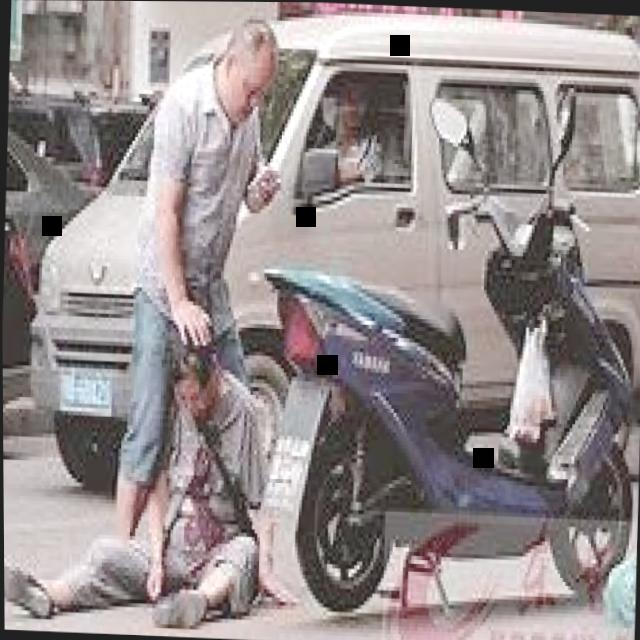Fall-Detected: (2, 301, 308, 629)
